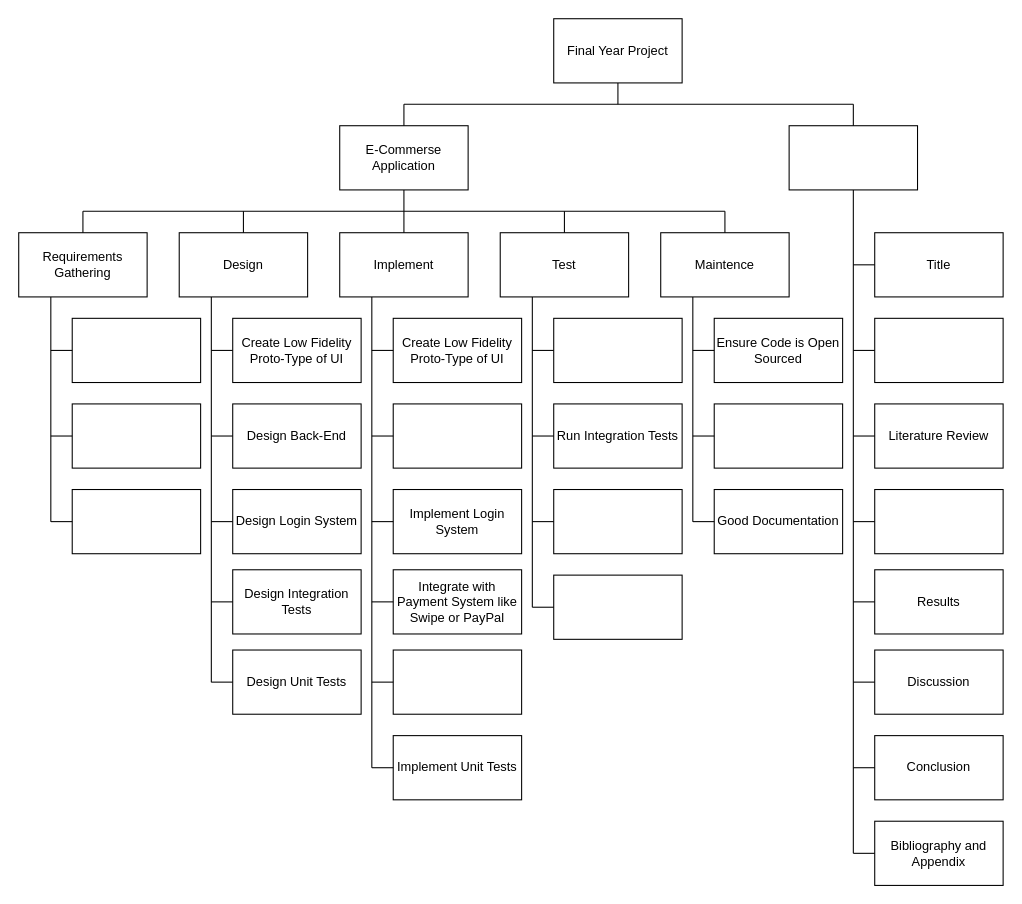
This 1022x904 diagram has some shape labels left out. Here are the shapes that lost their labels. From the top down, the box of each, then its label:
(788, 125, 918, 190): Dissertation
(71, 317, 201, 383): Evaluate Competition
(553, 317, 682, 383): Evaluate Low Fidelity Proto-Type
(874, 317, 1003, 383): Abstract
(71, 403, 201, 468): Look into Technologies
(392, 403, 522, 468): Implement Back-End
(713, 403, 843, 468): Use env secrets for tokens that can be swapped during production
(71, 488, 201, 554): Risk Assesment
(553, 488, 682, 554): Run Unit Tests
(874, 488, 1003, 554): Methodology
(553, 574, 682, 639): User Test and Evaluate Product
(392, 649, 522, 714): Implement Integration Tests
